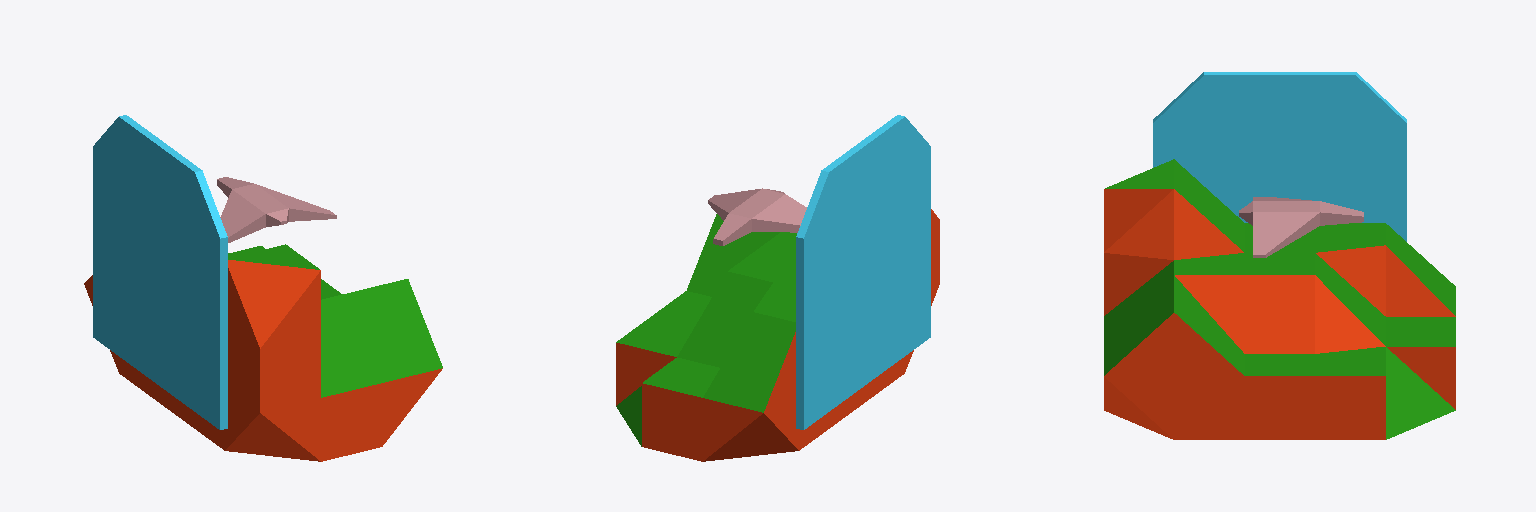
The model's file is maze.obj.
The picture shows the model from 3 angles: view 1: azimuth 30°, elevation 25°; view 2: azimuth 150°, elevation 25°; view 3: azimuth 270°, elevation 25°; orthographic projection.
Parts seen in each view (by area): view 1: Plane; view 2: Plane; view 3: Plane.
Boxes of the visible parts, x1,y1,x2,y2 form: Plane: [84, 115, 442, 461]; Plane: [616, 115, 939, 461]; Plane: [1104, 72, 1455, 439].
Size of the model in its own units: 0.975 by 1.27 by 1.5.